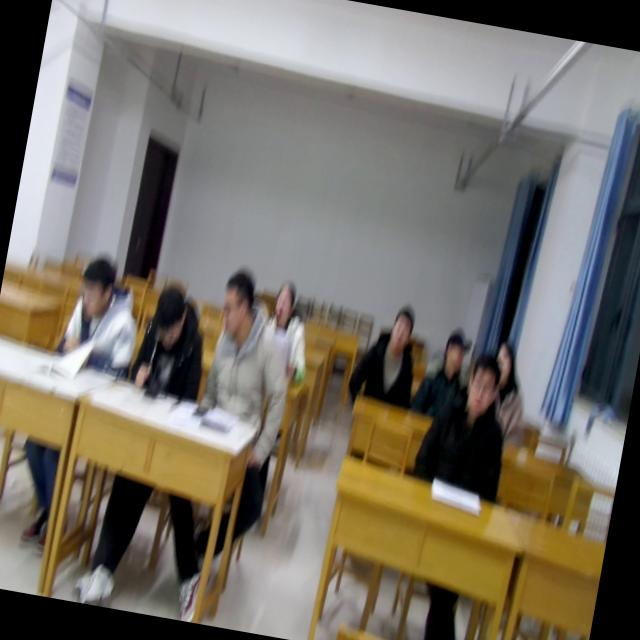down: (70, 245, 121, 318), (144, 274, 191, 352)
lookup: (457, 345, 506, 418), (380, 298, 420, 362), (267, 270, 302, 332), (488, 334, 522, 389)
sit: (194, 263, 308, 427), (408, 342, 522, 500), (46, 250, 148, 380), (119, 277, 218, 408), (345, 298, 428, 410), (258, 274, 322, 384), (410, 320, 478, 423), (482, 337, 540, 444)
